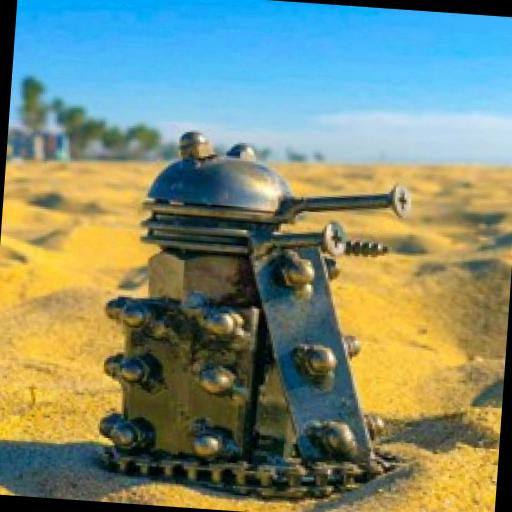dalek: (79, 120, 435, 498)
